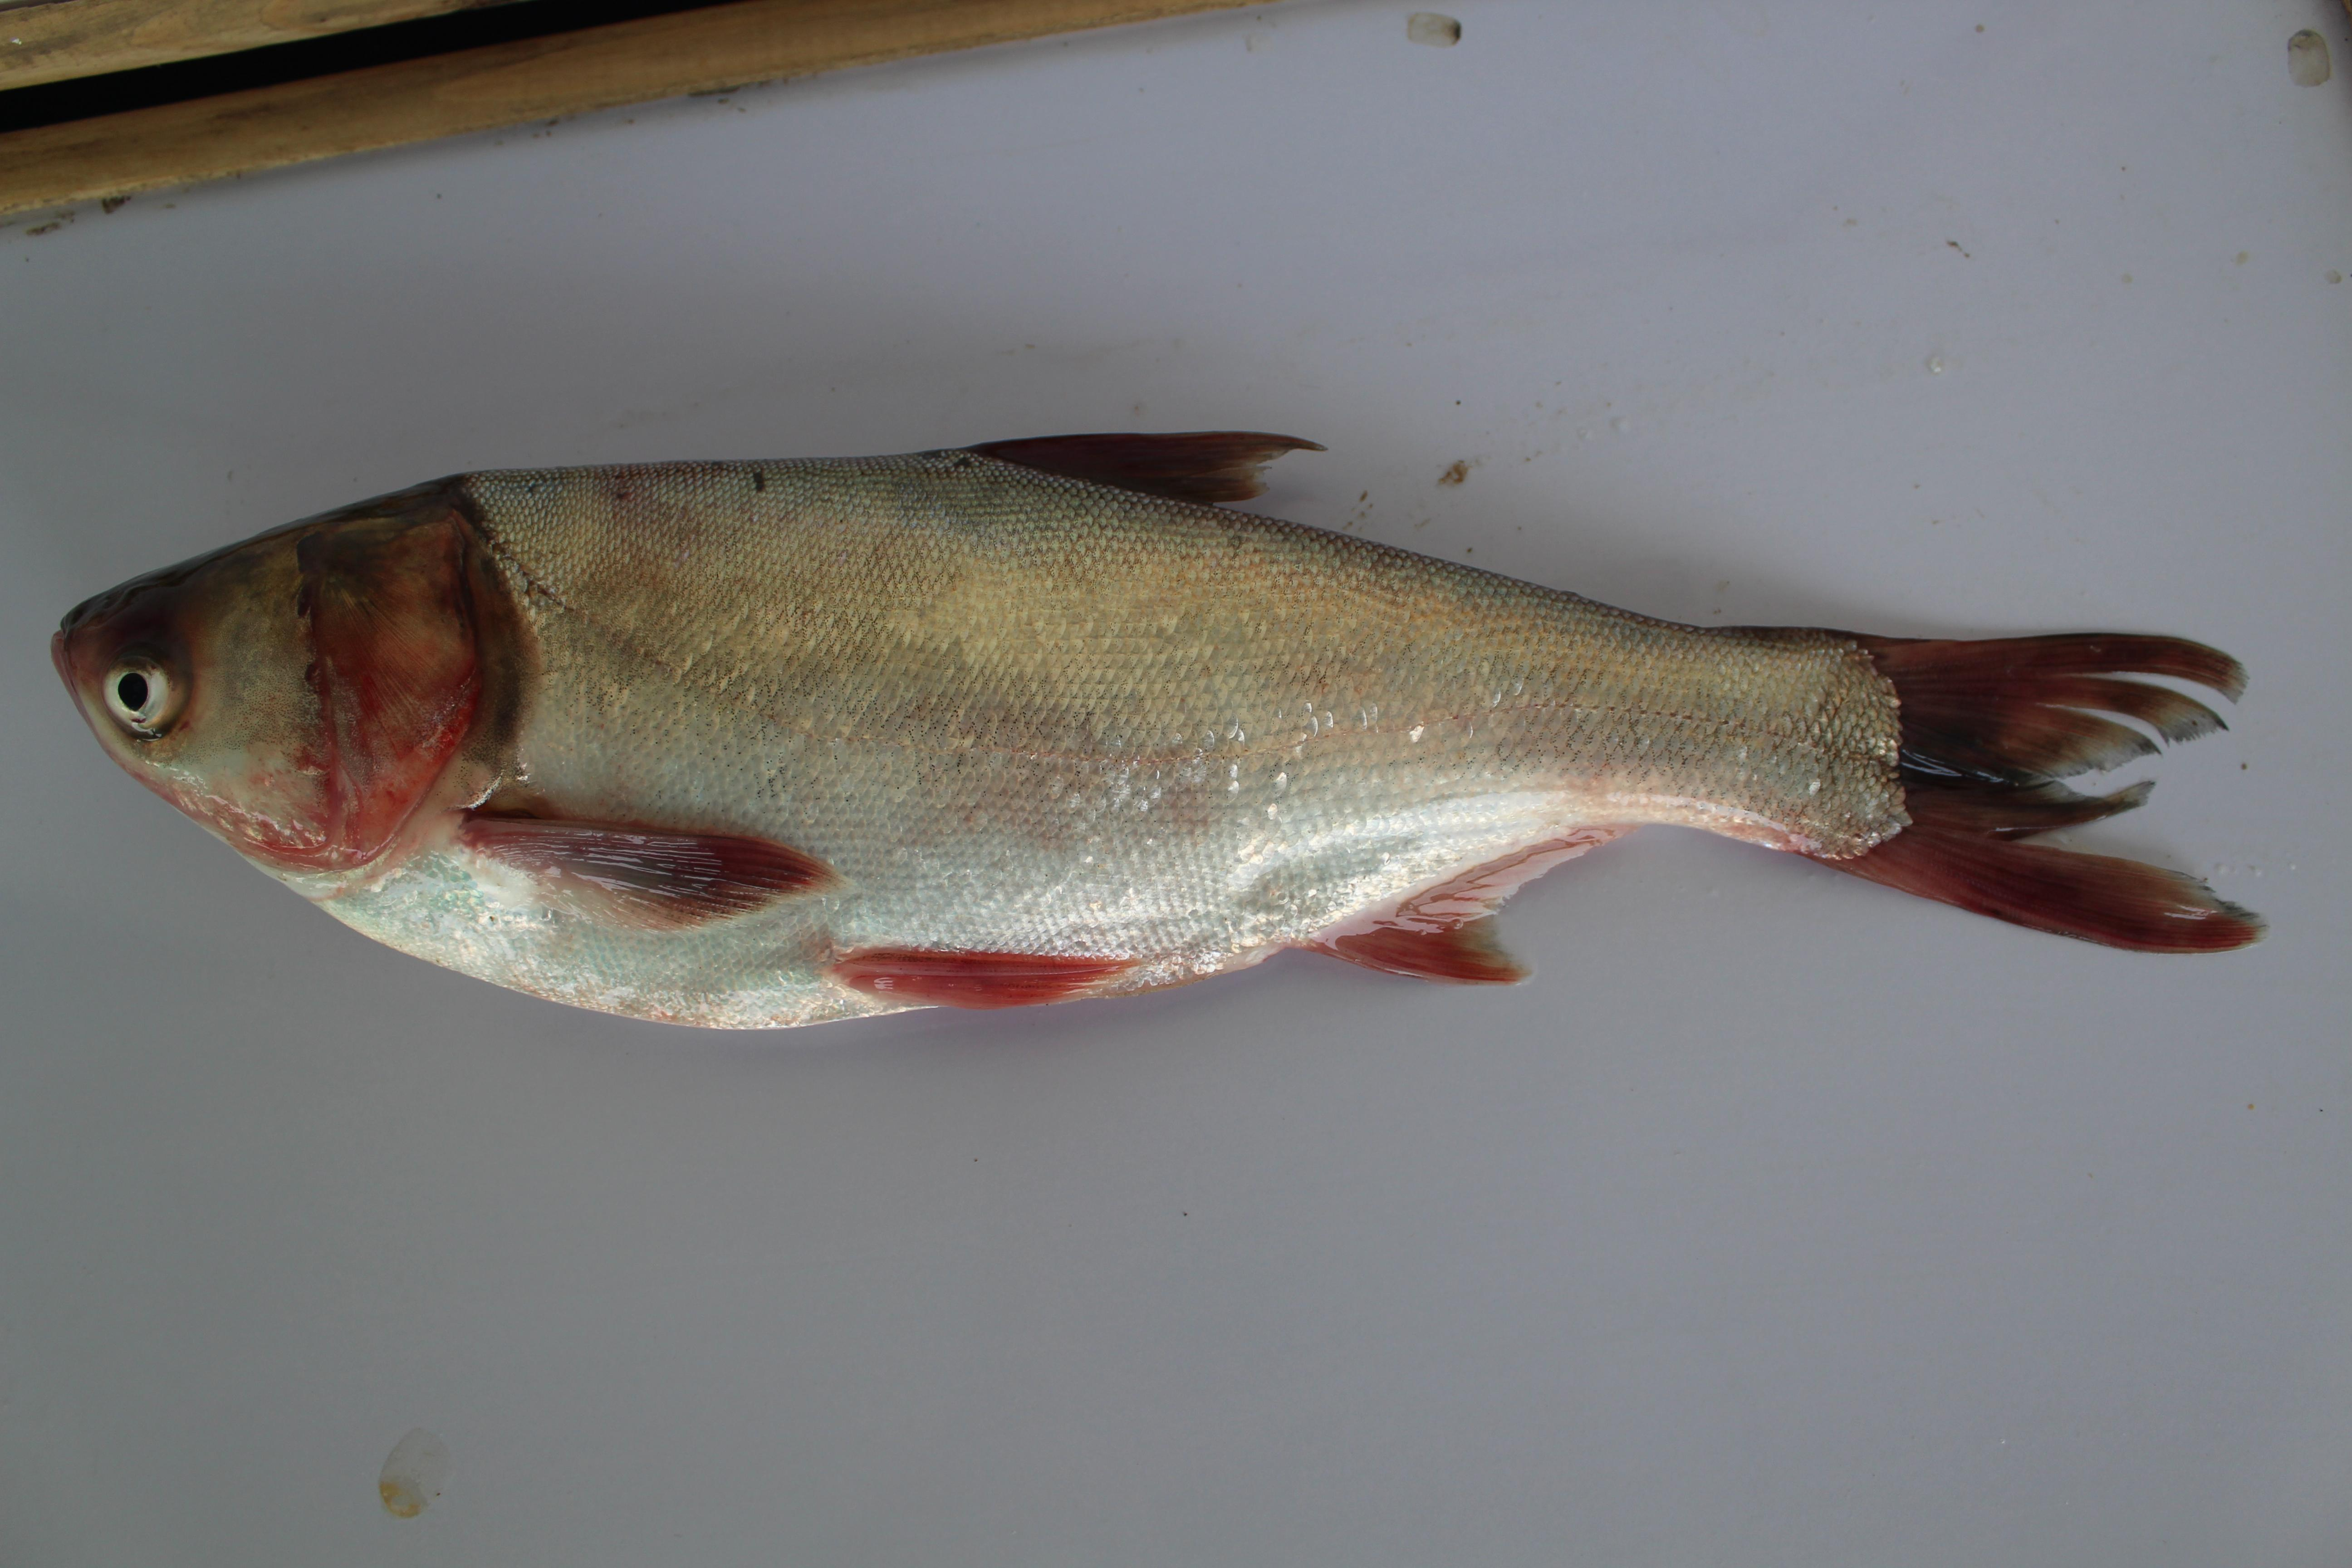Silver Carp: (56, 413, 2278, 1017)
